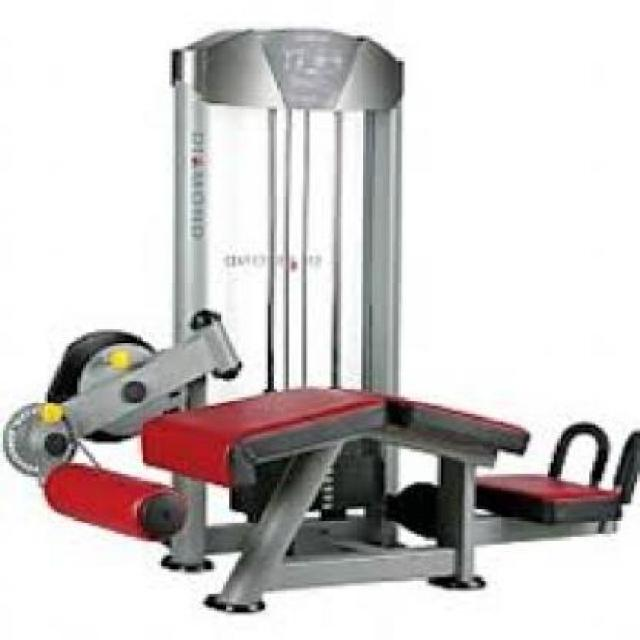reg curl machine: (3, 26, 640, 617)
